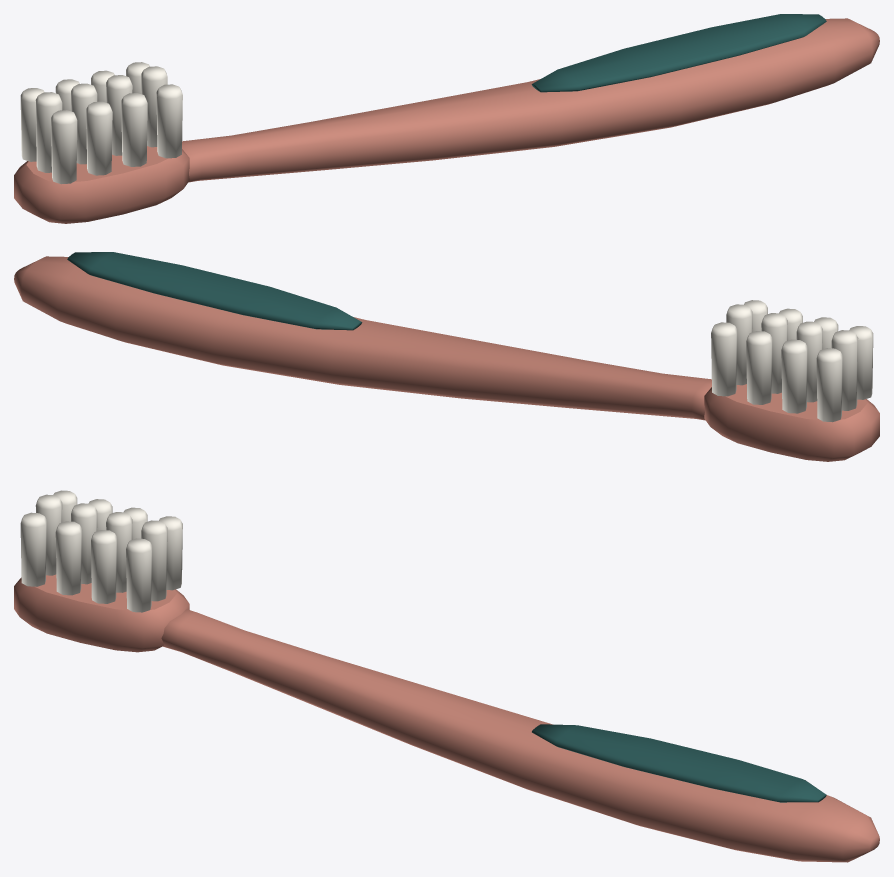
File: toothbrush_body.glb
The picture shows the model from 3 angles, top to bottom: view 1: azimuth 30°, elevation 25°; view 2: azimuth 150°, elevation 25°; view 3: azimuth 330°, elevation 25°; orthographic projection.
Parts seen in each view (by area): view 1: Handle, Bristles, Grip, Head; view 2: Handle, Bristles, Grip, Head; view 3: Handle, Bristles, Grip, Head.
Boxes of the visible parts, bbox=[...] form: Handle: bbox=[182, 18, 879, 182]; Bristles: bbox=[20, 62, 182, 184]; Grip: bbox=[531, 14, 826, 92]; Head: bbox=[14, 146, 189, 223]; Handle: bbox=[14, 256, 711, 420]; Bristles: bbox=[711, 300, 873, 422]; Grip: bbox=[67, 252, 362, 330]; Head: bbox=[704, 384, 879, 461]; Handle: bbox=[161, 609, 879, 862]; Bristles: bbox=[20, 490, 182, 612]; Grip: bbox=[532, 724, 826, 802]; Head: bbox=[14, 574, 189, 652].
Bounding box in the file's own units: 0.194 × 0.037 × 0.021.
